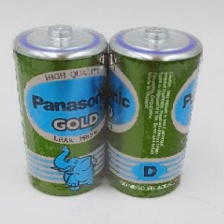battery: (11, 19, 114, 199), (101, 22, 205, 199)
